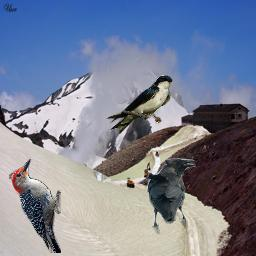Crow: (147, 156, 196, 234)
Swallow: (105, 75, 173, 134)
Woodpecker: (9, 159, 61, 253)
